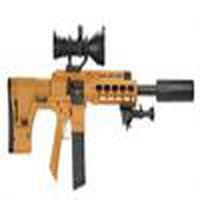gun: (12, 28, 182, 190)
